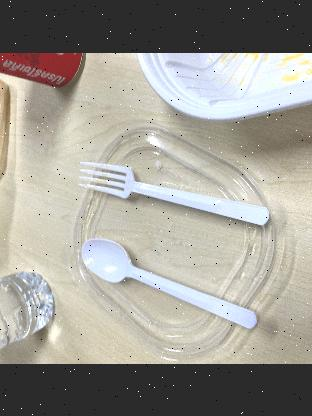Others: (65, 150, 285, 238), (77, 235, 262, 336)
